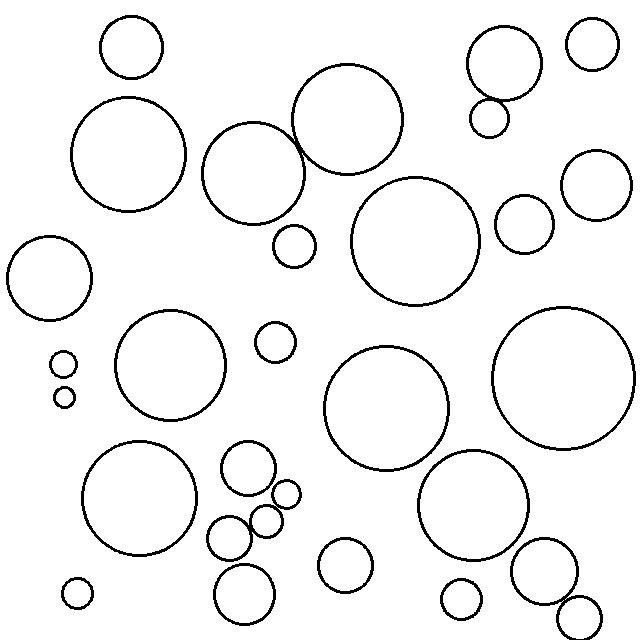circle: (488, 303, 638, 455), (349, 173, 482, 309), (322, 341, 452, 473), (78, 438, 200, 561), (68, 94, 190, 215), (289, 59, 407, 179), (415, 445, 532, 564), (110, 306, 228, 423), (199, 117, 308, 228), (5, 232, 97, 325), (465, 22, 545, 102), (559, 146, 636, 224), (510, 535, 582, 607), (98, 11, 166, 82), (209, 561, 277, 630), (491, 193, 558, 258), (315, 533, 377, 598), (219, 437, 280, 499), (564, 14, 621, 74), (204, 514, 255, 564), (271, 221, 320, 271), (438, 575, 486, 625), (553, 593, 604, 640), (251, 319, 300, 366), (465, 95, 513, 141), (248, 502, 286, 541), (58, 574, 96, 612), (270, 477, 304, 511), (47, 347, 81, 380), (51, 385, 79, 411)
